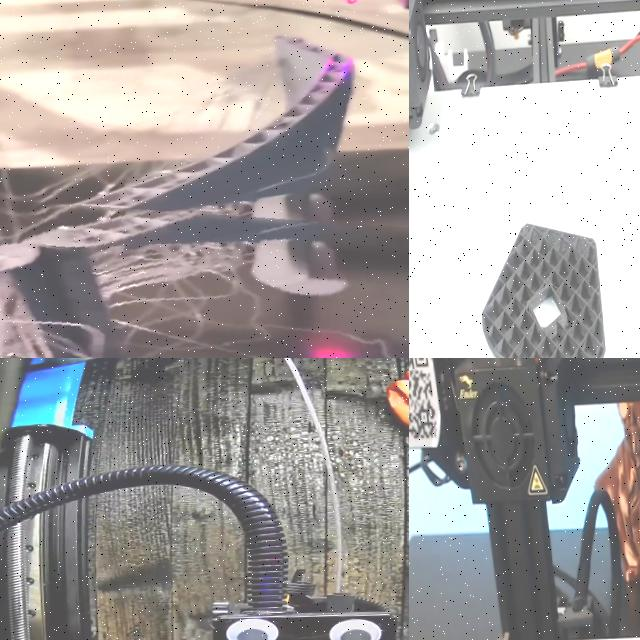spaghetti: (0, 169, 409, 358)
